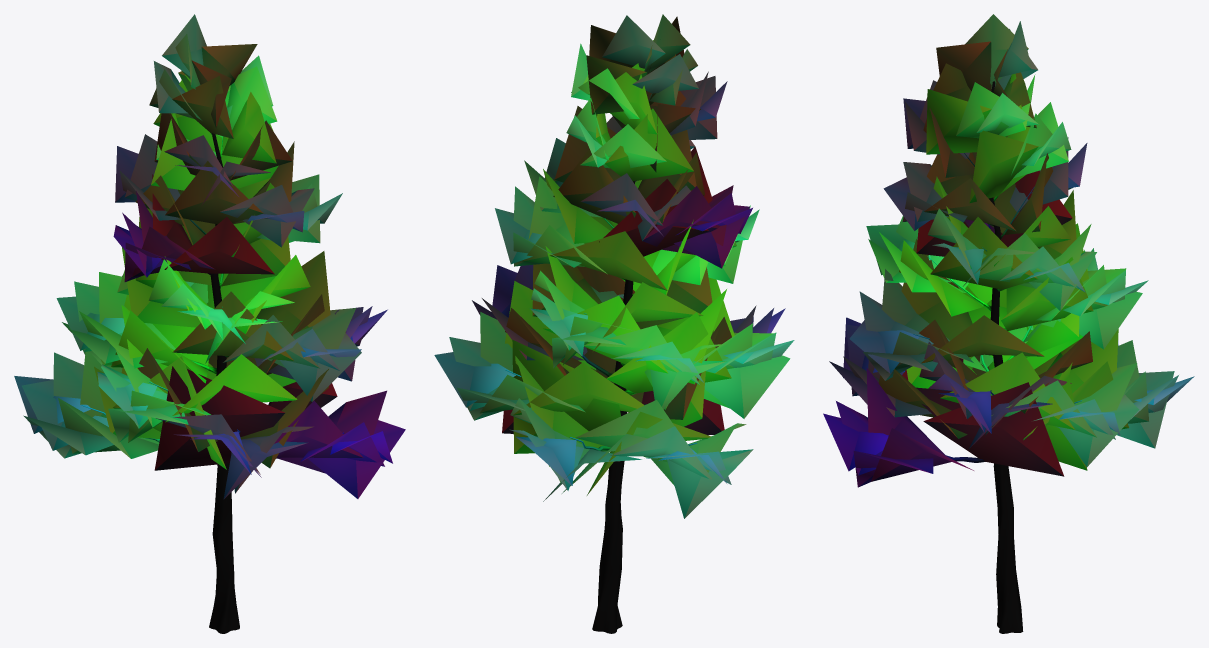
The model's file is SM_HTTree_02.FBX.
The picture shows the model from 3 angles, left to right: view 1: azimuth 30°, elevation 25°; view 2: azimuth 150°, elevation 25°; view 3: azimuth 270°, elevation 25°; orthographic projection. The views are drawn at different scales.
Visible parts, largest first — view 1: SM_HTTree_02_LOD0; view 2: SM_HTTree_02_LOD0; view 3: SM_HTTree_02_LOD0.
Part boxes in pixels (<box>): SM_HTTree_02_LOD0: <box>14,14,405,633</box>; SM_HTTree_02_LOD0: <box>434,14,794,633</box>; SM_HTTree_02_LOD0: <box>823,14,1194,633</box>.
Size of what is drawn, in the model's own units: 377 by 417 by 737.
